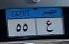5: (22, 23, 29, 32), (15, 23, 22, 32)
ain: (46, 20, 54, 32)
